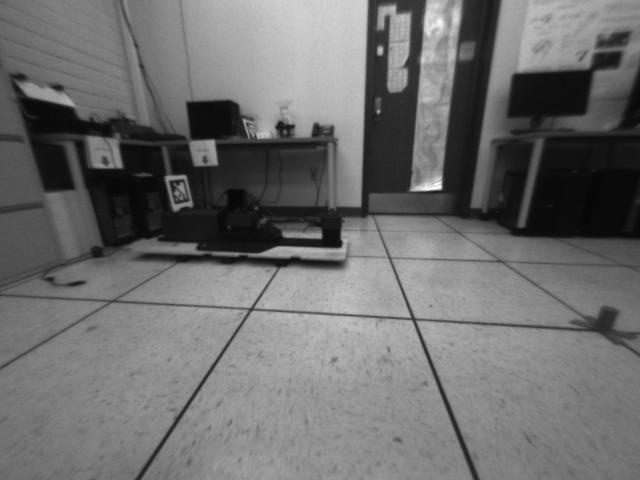X: (567, 304, 640, 346)
